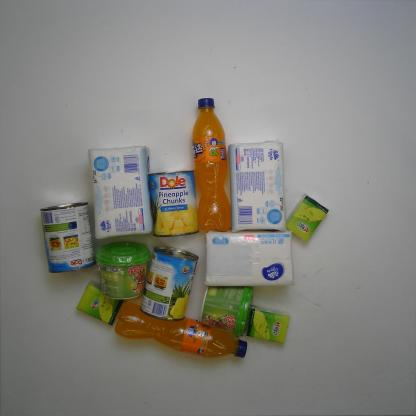Canned Food: (134, 244, 198, 319), (36, 198, 97, 276), (146, 163, 206, 238)
Drink: (112, 299, 249, 370), (183, 96, 238, 232)
Instant Drink: (94, 238, 150, 304), (207, 278, 257, 334)
Tissue: (79, 142, 160, 243), (200, 223, 295, 293), (227, 134, 290, 230), (238, 306, 298, 352), (73, 281, 125, 329), (284, 192, 331, 245)
